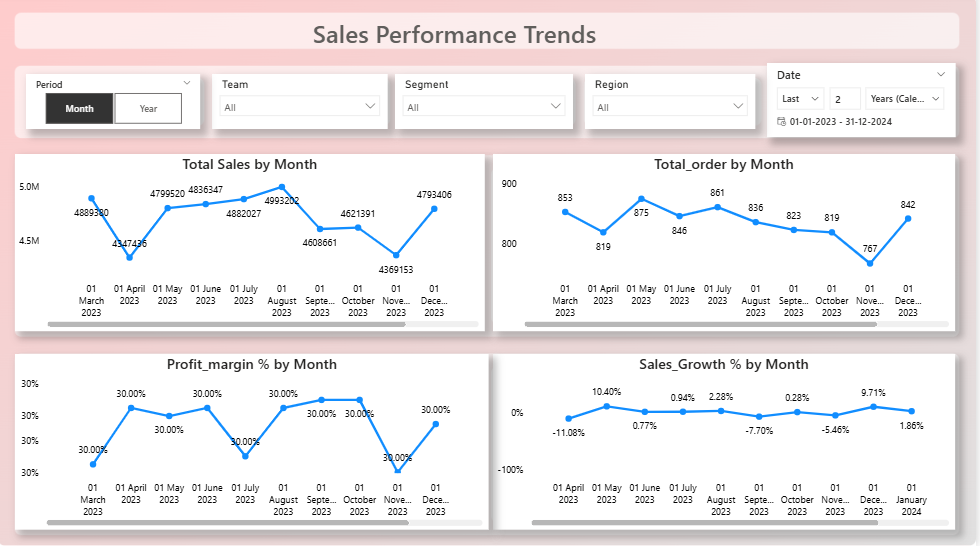

The page's visual inventory and layout, read from the dashboard file:
{"tool":"powerbi","page":{"name":"Sales Trends","canvas":[1280,720],"ordinal":1},"visuals":[{"type":"lineChart","fields":{"Category":["Calender.Start of Month"],"Y":["_All Measures.Total Sales"]},"box":[21.7,206.7,615,231.7],"z":0},{"type":"slicer","fields":{"Values":["Calender.Date"]},"box":[1006.7,88.3,246.7,96.7],"z":1000},{"type":"slicer","fields":{"Values":["SalesData.Team"]},"box":[280,101.7,230,71.7],"z":2000},{"type":"slicer","fields":{"Values":["SalesData.Segment"]},"box":[520,101.7,233.3,71.7],"z":3000},{"type":"slicer","fields":{"Values":["Customers.Region"]},"box":[768.3,101.7,223.3,71.7],"z":4000},{"type":"actionButton","box":[244.8,20.9,705.6,44.5],"z":5000},{"type":"slicer","fields":{"Values":["Period 2.Period"]},"box":[36.7,101.7,228.3,71.7],"z":6000},{"type":"lineChart","fields":{"Category":["Calender.Start of Month"],"Y":["_All Measures.Total_order"]},"box":[648.3,206.7,605,231.7],"z":7000},{"type":"lineChart","fields":{"Category":["Calender.Start of Month"],"Y":["_All Measures.Sales_Growth %"]},"box":[648.3,468.3,605,230],"z":8000},{"type":"lineChart","fields":{"Category":["Calender.Start of Month"],"Y":["_All Measures.Profit_margin %"]},"box":[21.7,468.3,620,230],"z":9000}]}

Visuals, with their boxes in screenshot pixels (x1, y1, x2, y2), scaled from the page's 1280x720 canvas onto the 980x546 screenshot:
lineChart - Calender.Start of Month x _All Measures.Total Sales: <region>17, 157, 487, 332</region>
slicer - Calender.Date: <region>771, 67, 960, 140</region>
slicer - SalesData.Team: <region>214, 77, 390, 131</region>
slicer - SalesData.Segment: <region>398, 77, 577, 131</region>
slicer - Customers.Region: <region>588, 77, 759, 131</region>
actionButton: <region>187, 16, 728, 50</region>
slicer - Period 2.Period: <region>28, 77, 203, 131</region>
lineChart - Calender.Start of Month x _All Measures.Total_order: <region>496, 157, 960, 332</region>
lineChart - Calender.Start of Month x _All Measures.Sales_Growth %: <region>496, 355, 960, 530</region>
lineChart - Calender.Start of Month x _All Measures.Profit_margin %: <region>17, 355, 491, 530</region>
